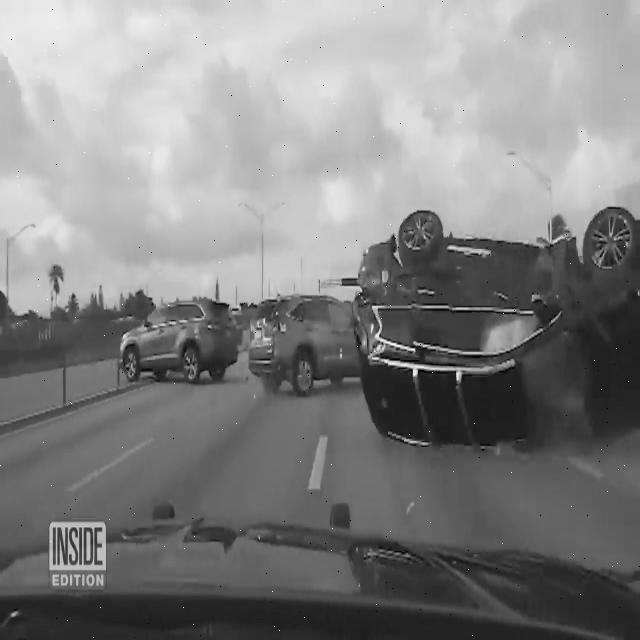accident: (351, 214, 639, 434)
